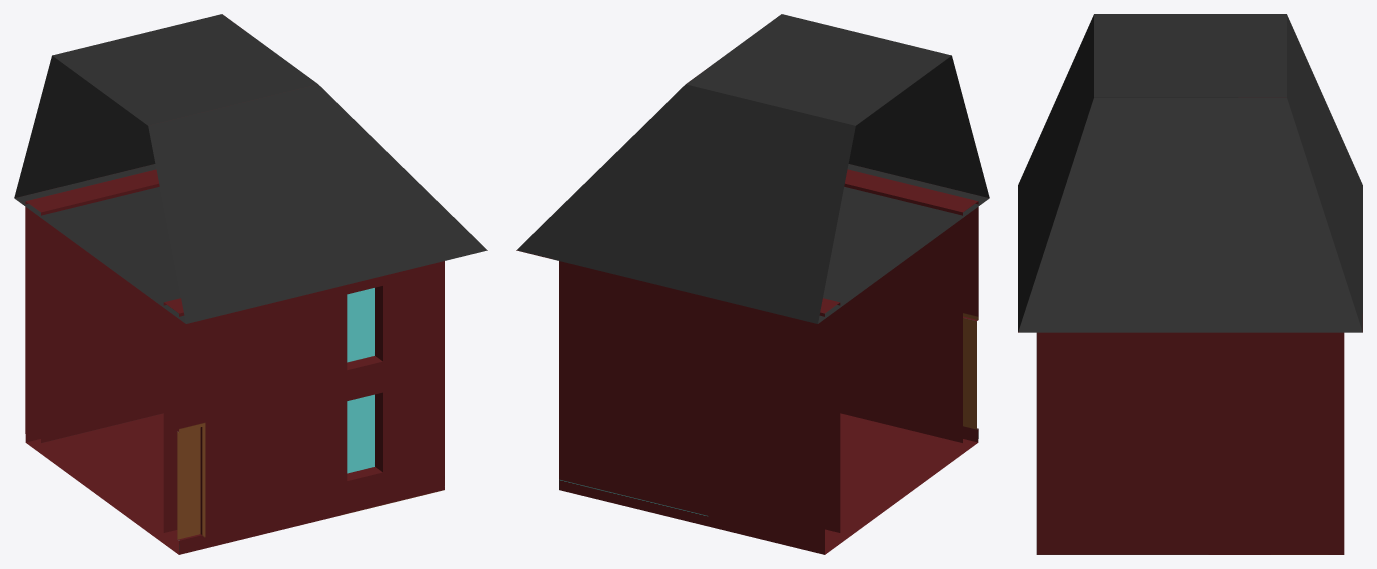
The model's file is house_right.glb.
3 renders of one model, left to right at view 1: azimuth 30°, elevation 25°; view 2: azimuth 150°, elevation 25°; view 3: azimuth 270°, elevation 25°, orthographic.
Visible parts, largest first — view 1: house_right; view 2: house_right; view 3: house_right.
Boxes of the visible parts, x1=… form: house_right: x1=14, y1=14, x2=487, y2=554; house_right: x1=516, y1=14, x2=989, y2=554; house_right: x1=1018, y1=14, x2=1362, y2=554.
Size of what is drawn, in the model's own units: 9.08 by 11.75 by 8.96.
Materials: 1 (1 with a texture image).
